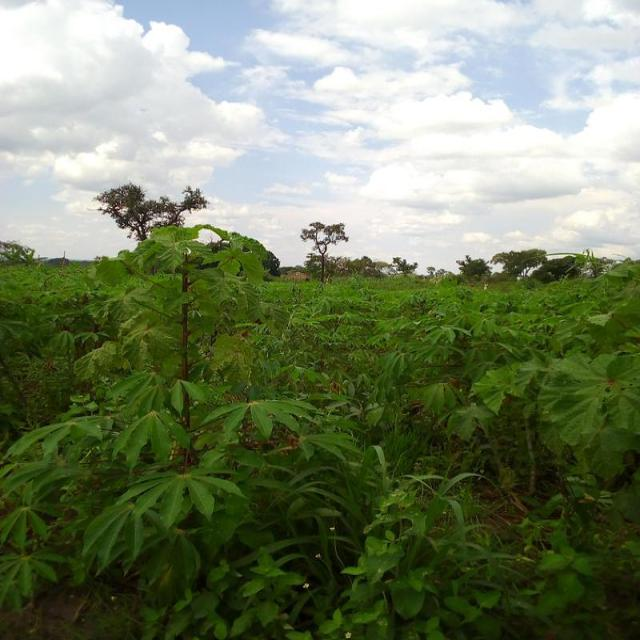cassava leaf: (1, 225, 638, 638)
